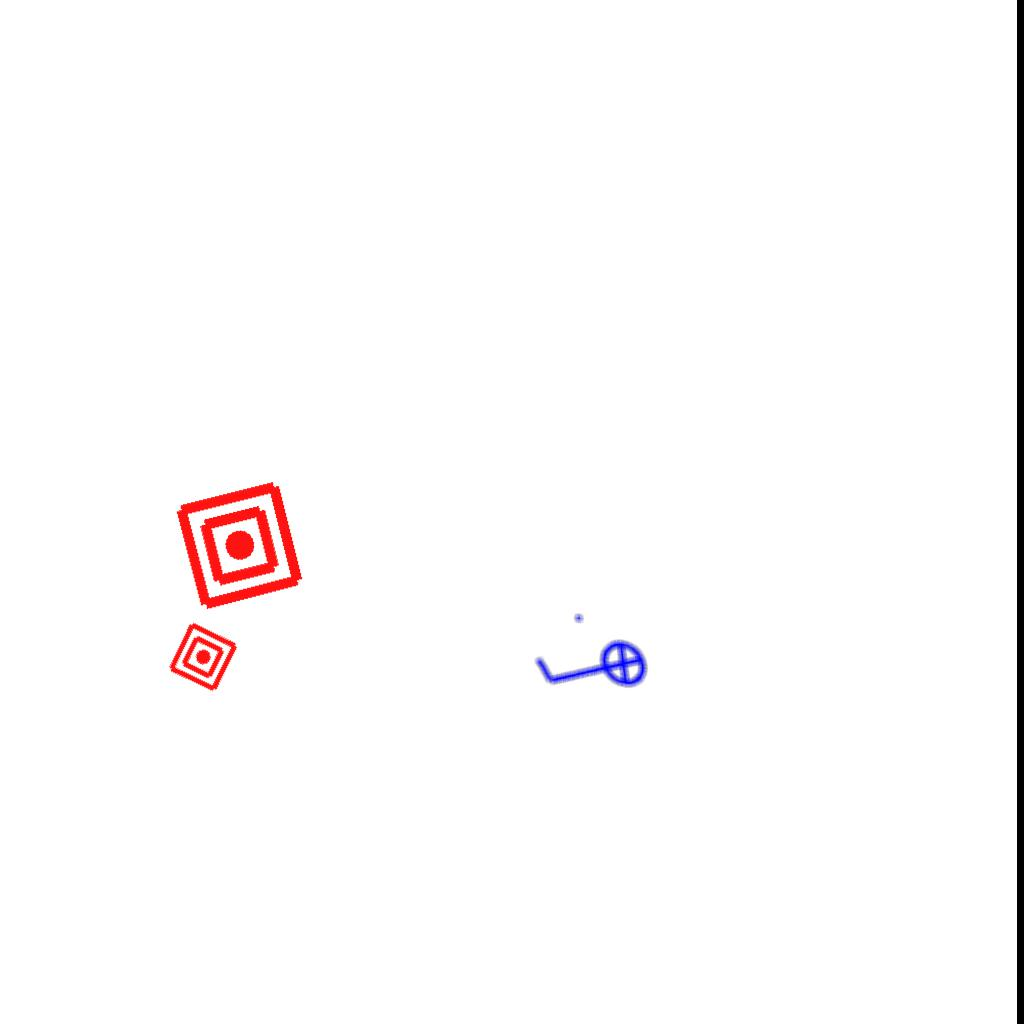Ausschalter_beleuchtet: (519, 596, 667, 744)
NAM-Nichtautomatischer_Melder: (171, 477, 308, 614), (165, 619, 241, 695)
